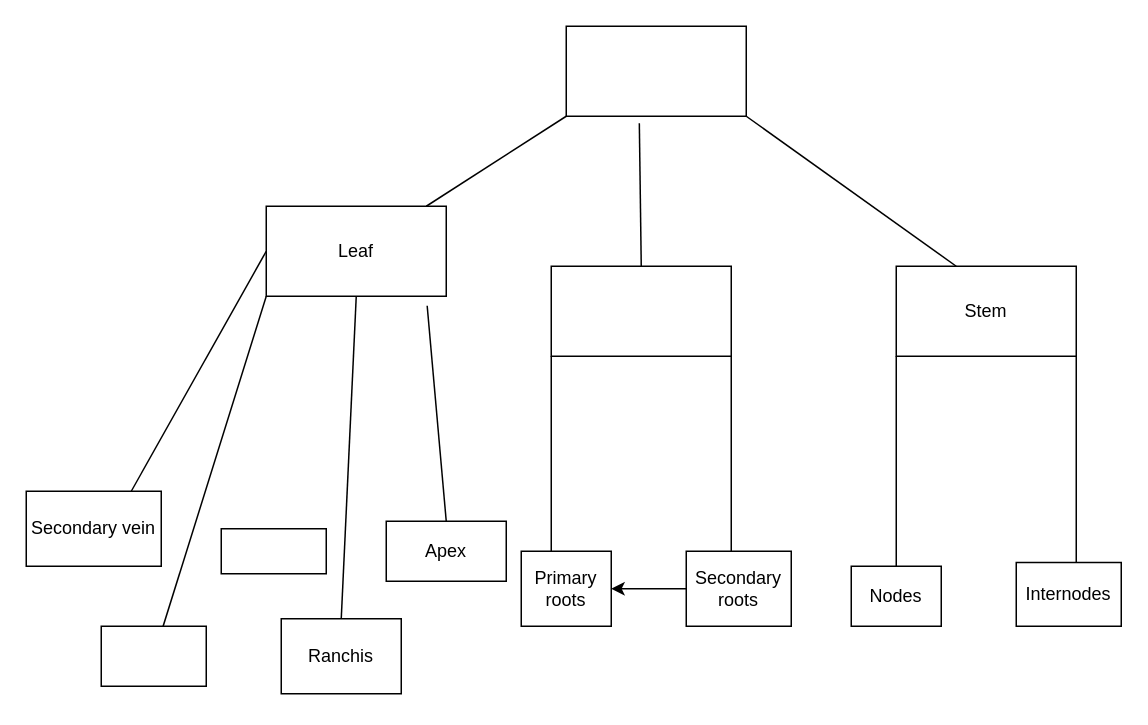
Image size: 1148x725. Some labels were removed from this diagram. The shapes that lost their labels are listed below. From the top down, each one's centre as x and y in pixels, then its label:
the point at 655,70: Plant
the point at 640,310: Root
the point at 273,550: Primary Vein
the point at 153,655: Lamina
